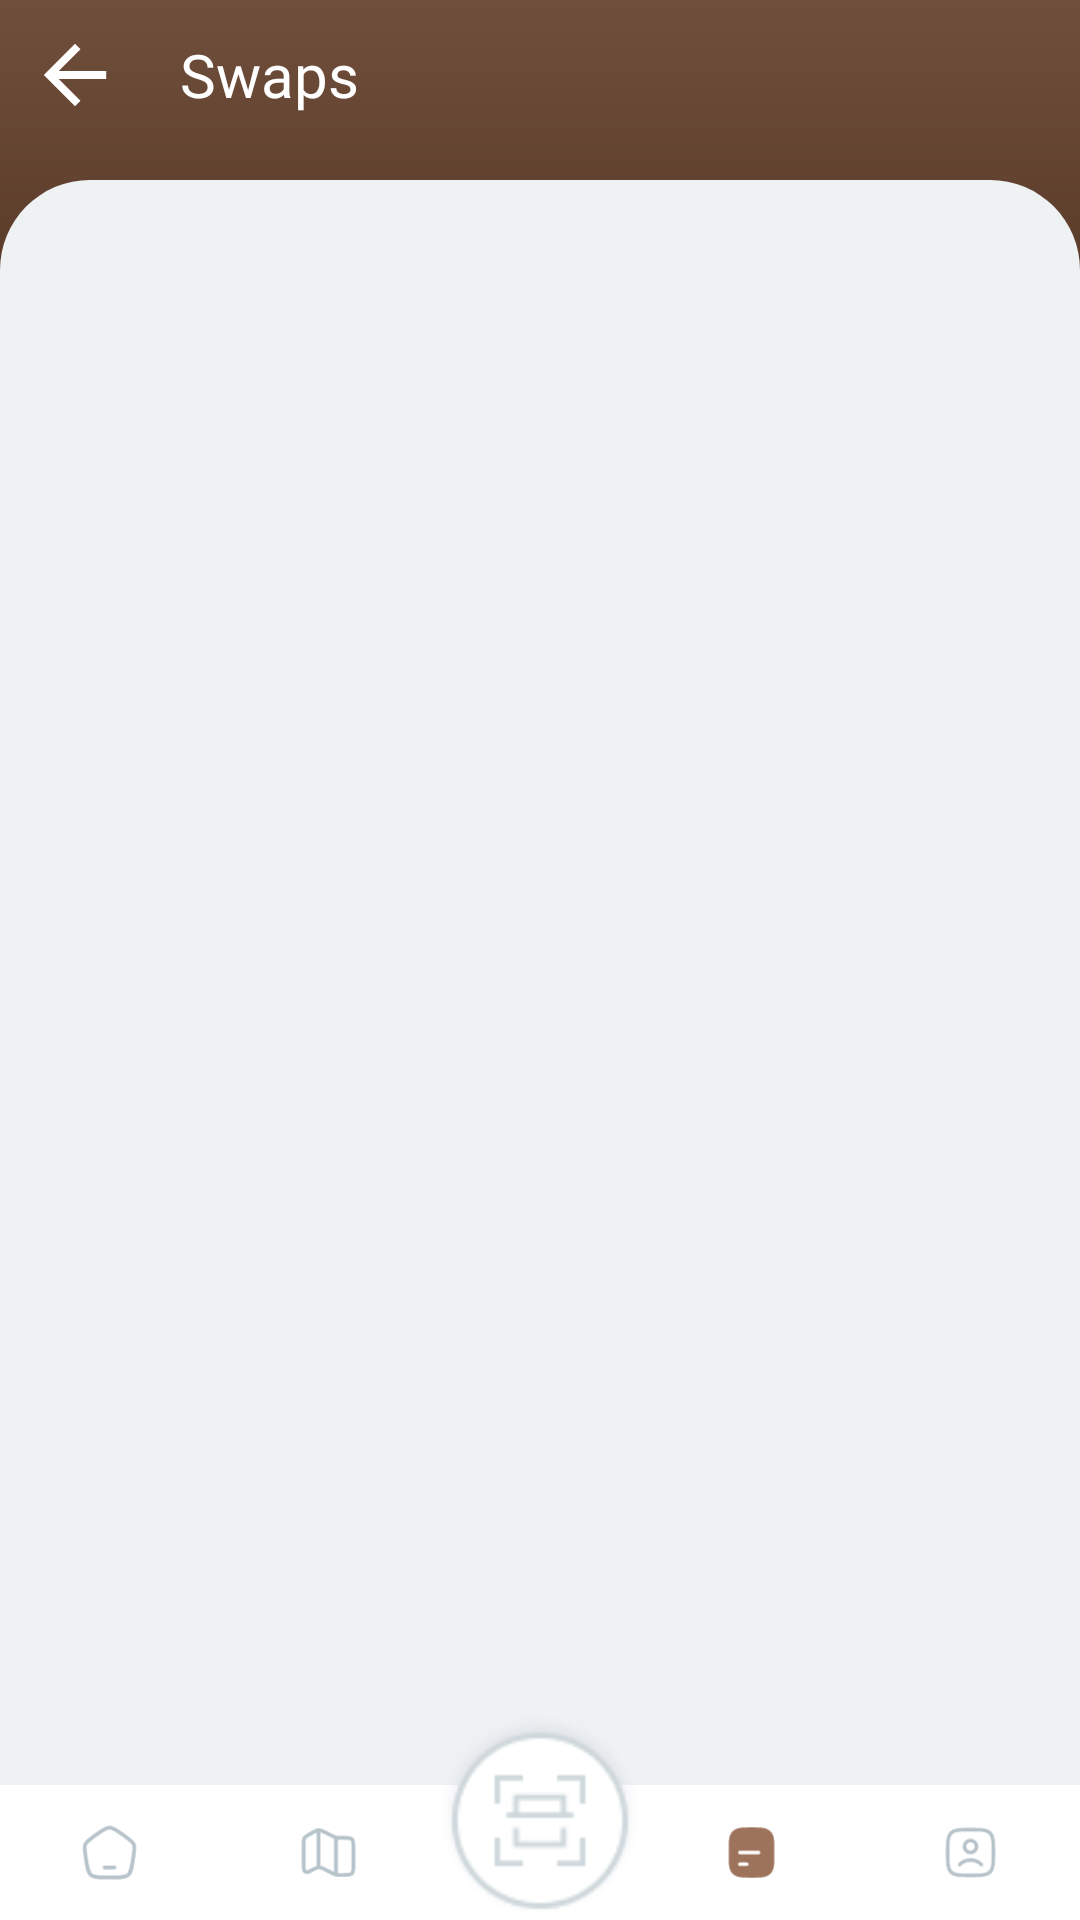

Where icons sit on this 1080x1920 app screen, as [x1=x1, y1=y1, x2=x2, y2=y2]:
back: [x1=44, y1=44, x2=107, y2=106]
dasboard hmoe: [x1=83, y1=1825, x2=136, y2=1880]
dasboard map: [x1=301, y1=1828, x2=356, y2=1877]
dasboard profile: [x1=945, y1=1827, x2=996, y2=1878]
history: [x1=728, y1=1827, x2=775, y2=1878]
qr dashbord: [x1=452, y1=1726, x2=628, y2=1909]
